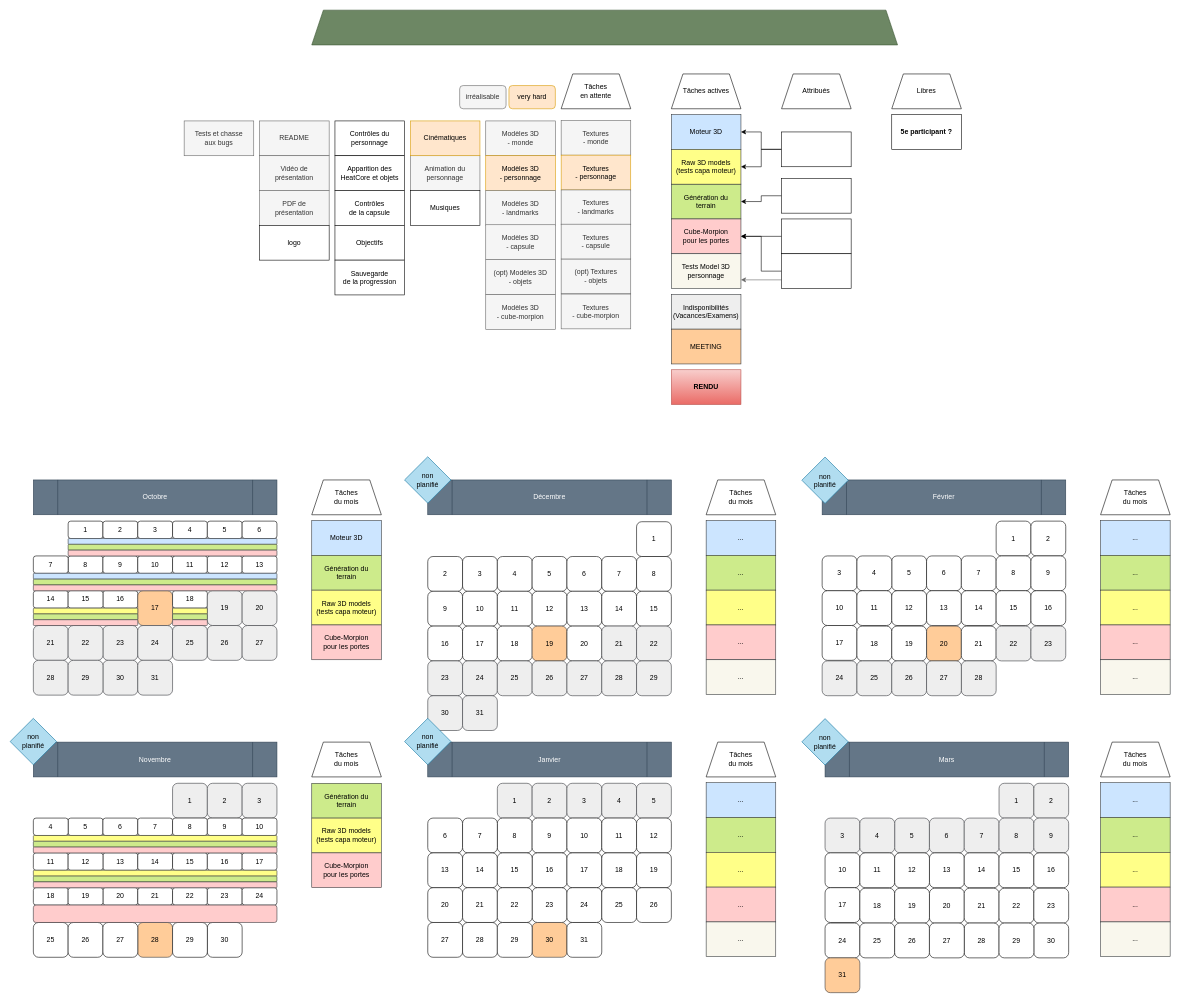
This 1180x1003 diagram has some shape labels left out. Here are the shapes that lost their labels. From the top down, the centre of each, then its label:
At pixel 604 27: "ORGANISATION PP42 - TROPHÉE NSI 2025 - HeatCore".
At pixel 816 149: "Gaspard".
At pixel 816 195: "Cosmo".
At pixel 816 236: "Lou".
At pixel 816 271: "Matthew".
